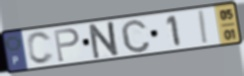1: (165, 14, 183, 47)
C: (119, 18, 153, 54), (25, 30, 56, 66)
I: (198, 9, 210, 46)
N: (88, 19, 122, 61)
P: (52, 27, 81, 64)
